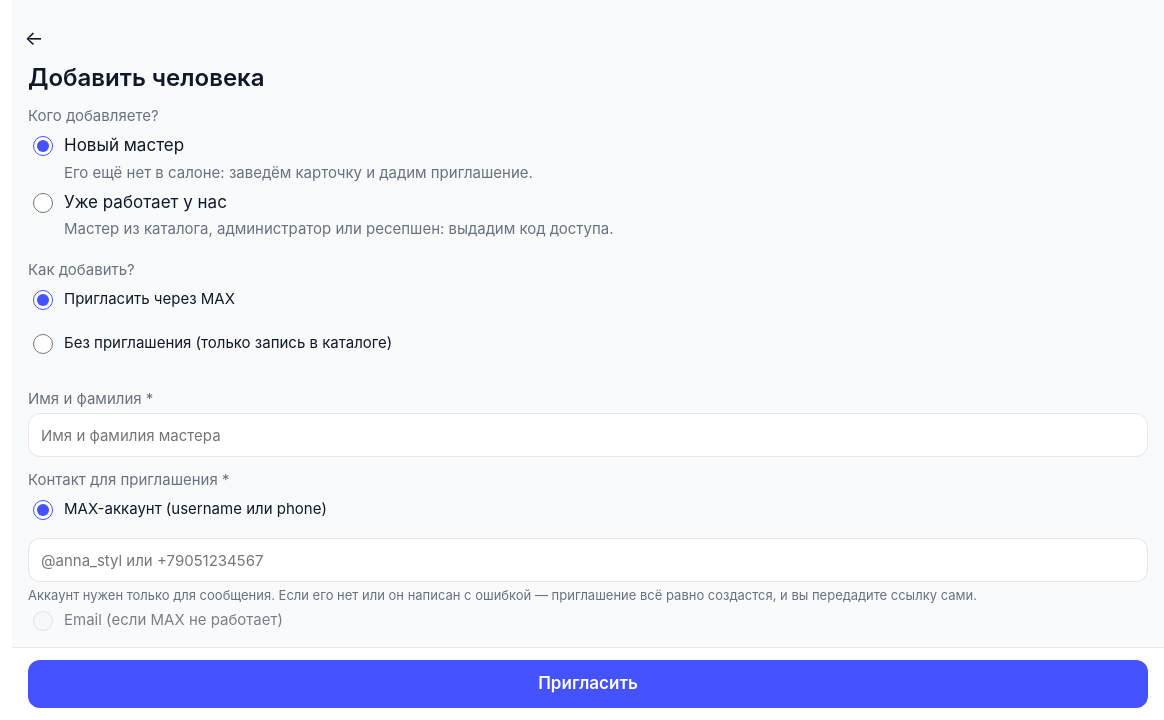
Scenario: ссылка-приглашение › молчит о веб-адресе, когда его просто нет по режиму
The width and height of the screenshot is (1164, 720).
Type "Анна Петрова" into the field labelled "Имя и фамилия *" at (588, 435), box [28,413,1148,457]
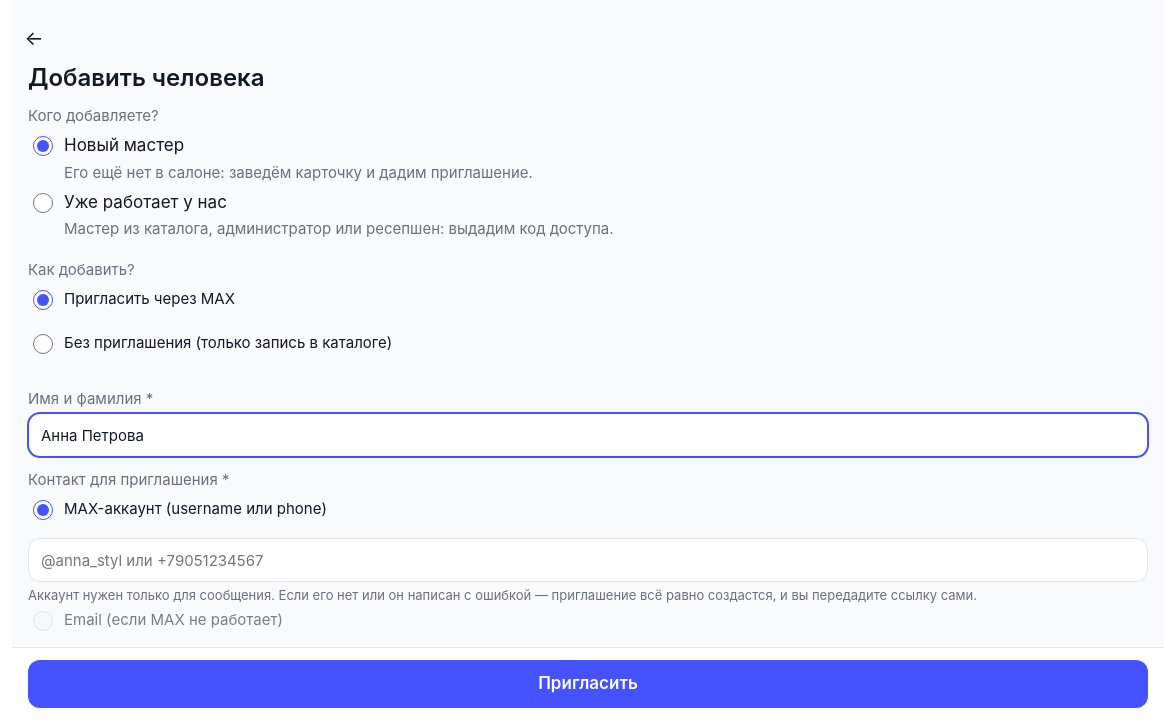
Type "@anna_styl" into the field with placeholder "@anna_styl или +79051234567" at (588, 560), box [28,538,1148,582]
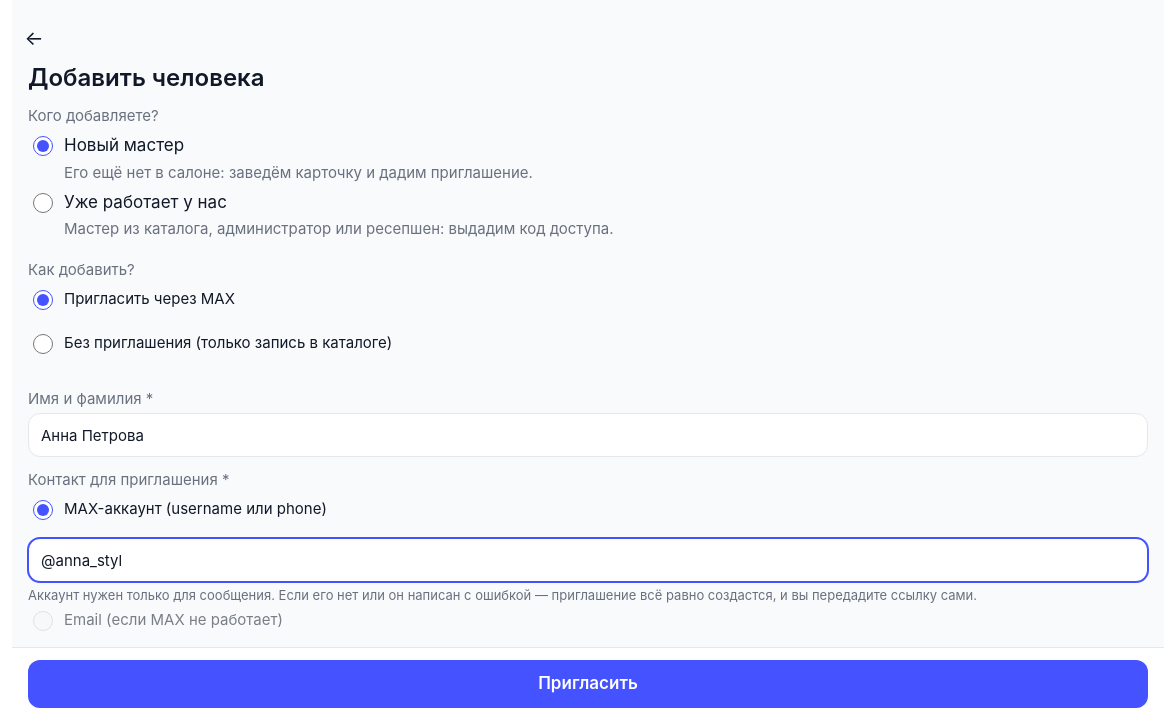
Click the button "Пригласить" at (588, 684), box [28,660,1148,708]
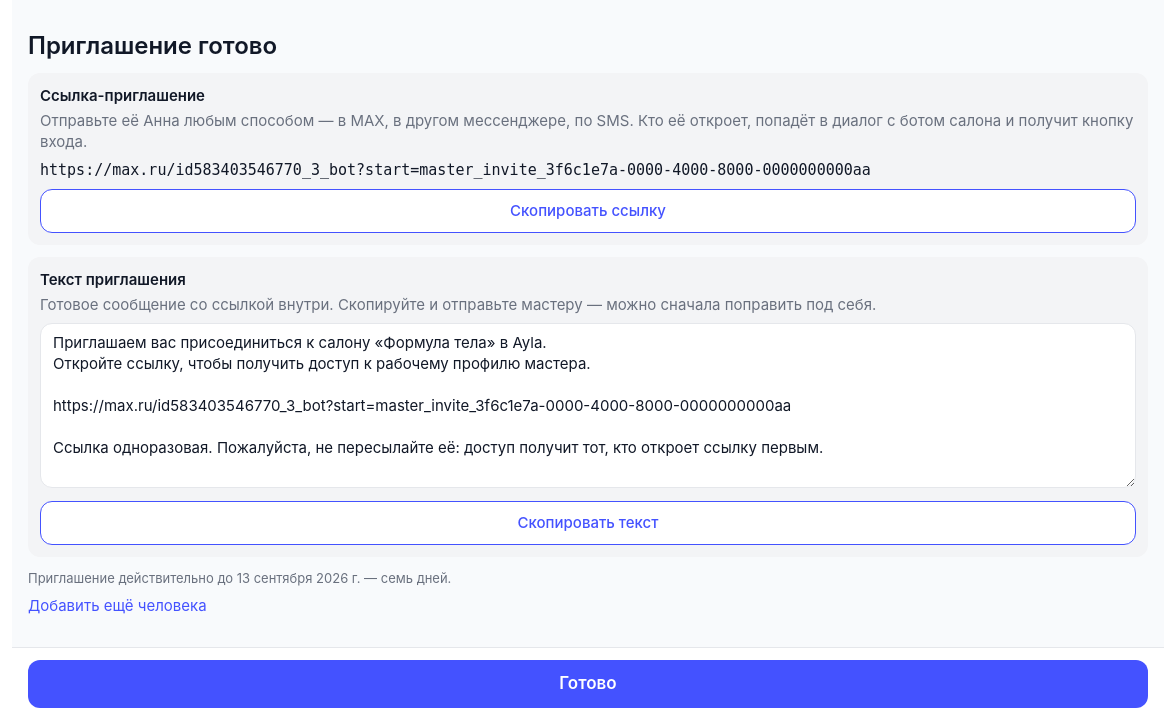
Result: the text "https://max.ru/id583403546770_3_bot?start=master_invite_3f6c1e7a-0000-4000-8000-0000000000aa" is shown at [40,161,871,179]
